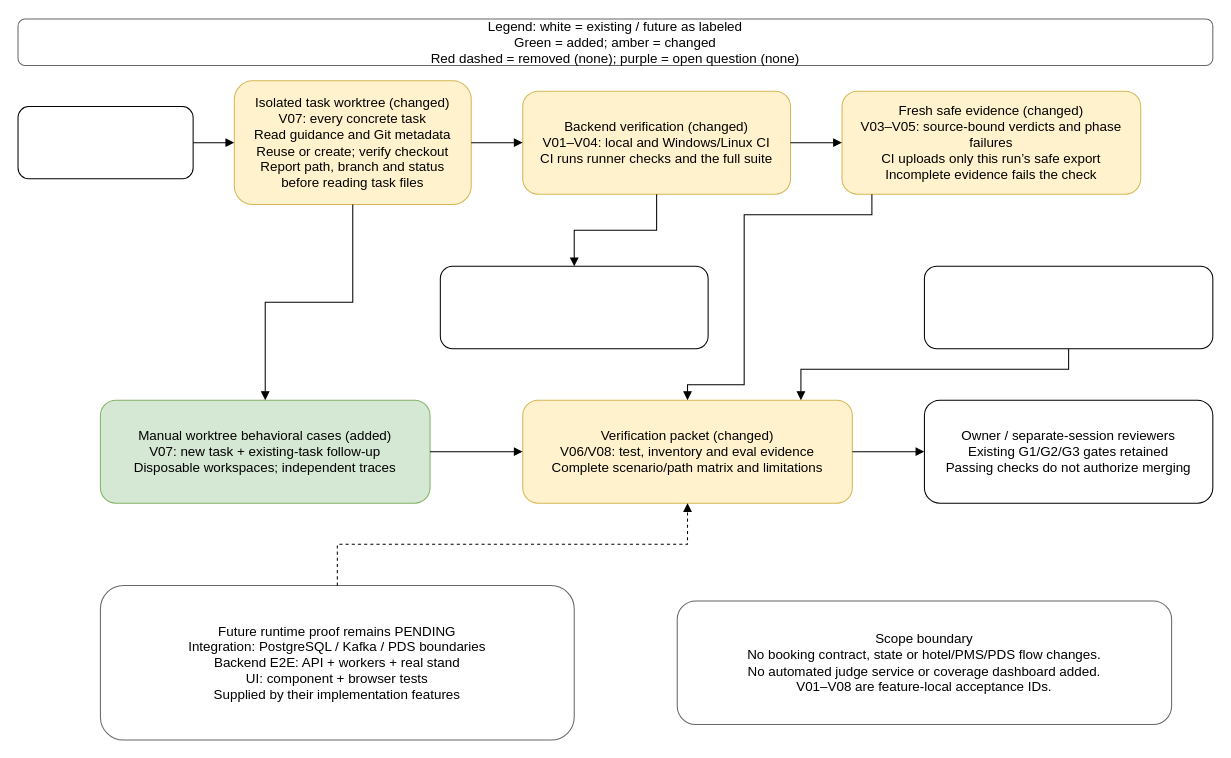
Image size: 1231x758. Some labels were removed from this diagram. The centre of each missing label's shape, as x and y in pixels:
"Developer / task request" goes at point (105, 142).
"Existing application unit/contract suite Decision / wire proof only" goes at point (573, 307).
"Independent static inventory CI Skill routes, targets and regressions" goes at point (1068, 307).
